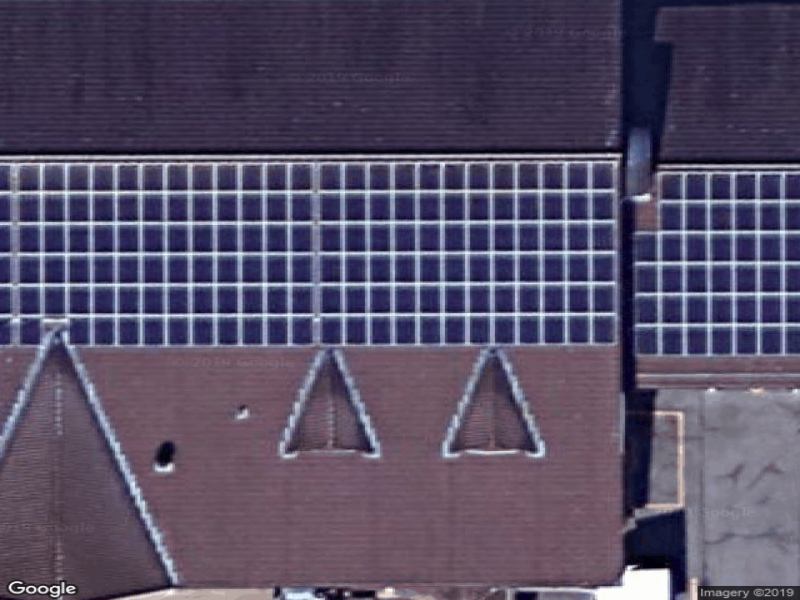pv: (1, 163, 800, 356)
